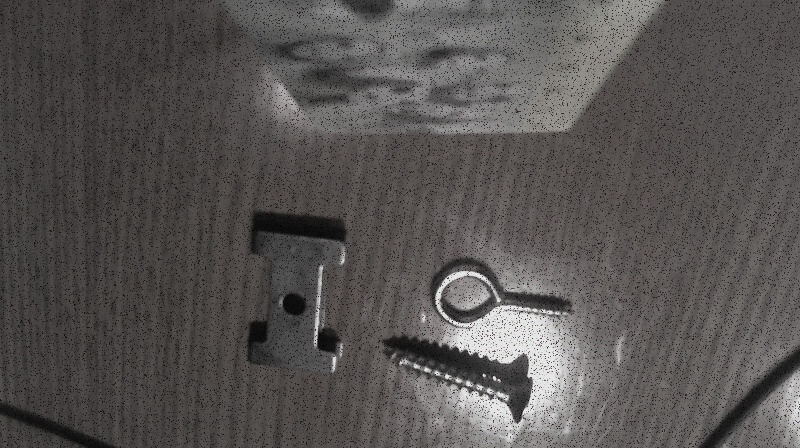O001: (427, 259, 580, 331)
O002: (241, 216, 354, 377)
S001: (377, 338, 543, 427)
